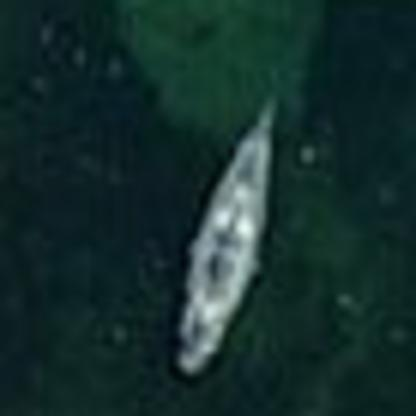ship: (156, 78, 292, 389)
